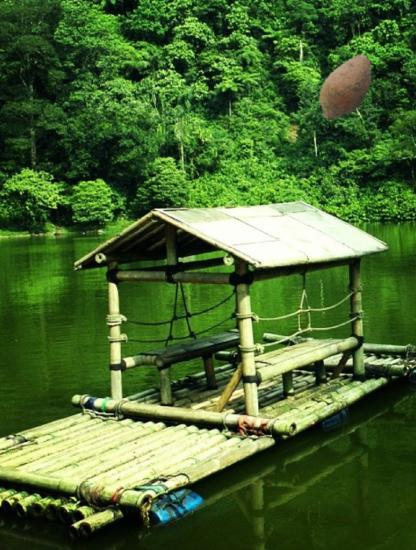Potato: (308, 49, 385, 126)
